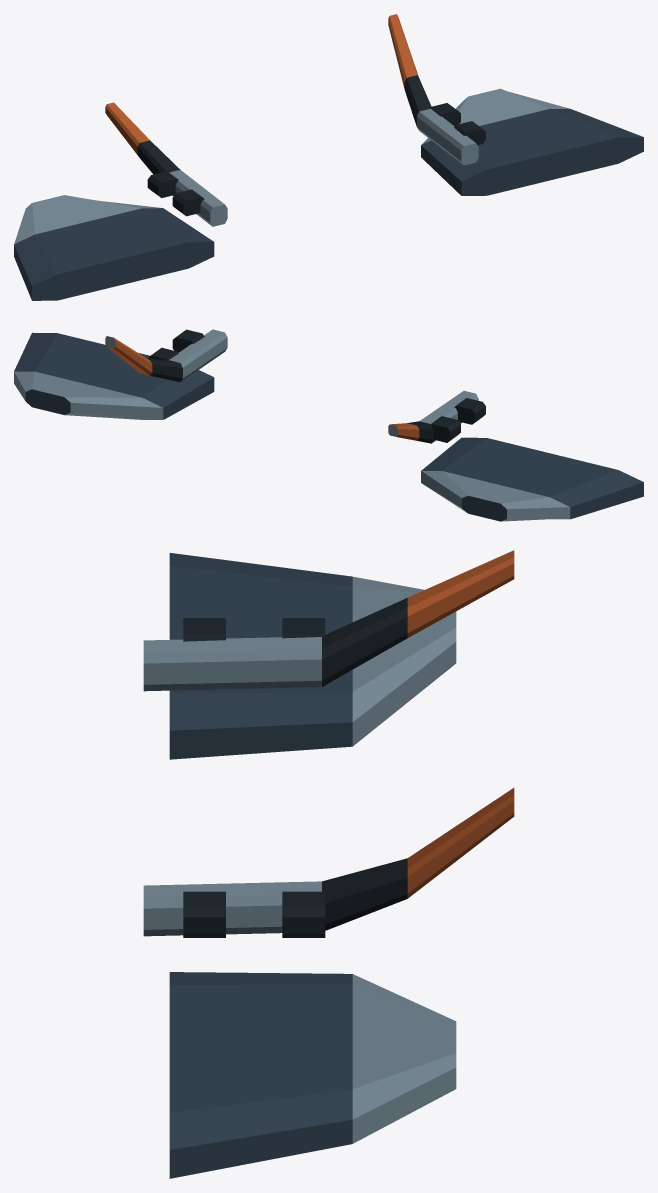
File: BridgeEscapeTornJoint.obj
3 renders of one model, top to bottom at view 1: azimuth 30°, elevation 25°; view 2: azimuth 150°, elevation 25°; view 3: azimuth 270°, elevation 25°, orthographic. The views are drawn at different scales.
Visible parts, largest first — view 1: torn_flange, curled_rail, peeled_fastener; view 2: torn_flange, curled_rail, peeled_fastener; view 3: torn_flange, curled_rail, peeled_fastener.
Boxes of the visible parts, x1,y1,x2,y2 form: torn_flange: (14,88,643,300); curled_rail: (105,14,478,226); peeled_fastener: (147,103,485,216); torn_flange: (14,332,643,521); curled_rail: (105,329,478,443); peeled_fastener: (147,329,485,442); torn_flange: (169,553,456,1178); curled_rail: (143,550,514,936); peeled_fastener: (183,618,325,937).
Bounding box in the file's own units: 9.26 × 1.73 × 2.43.
